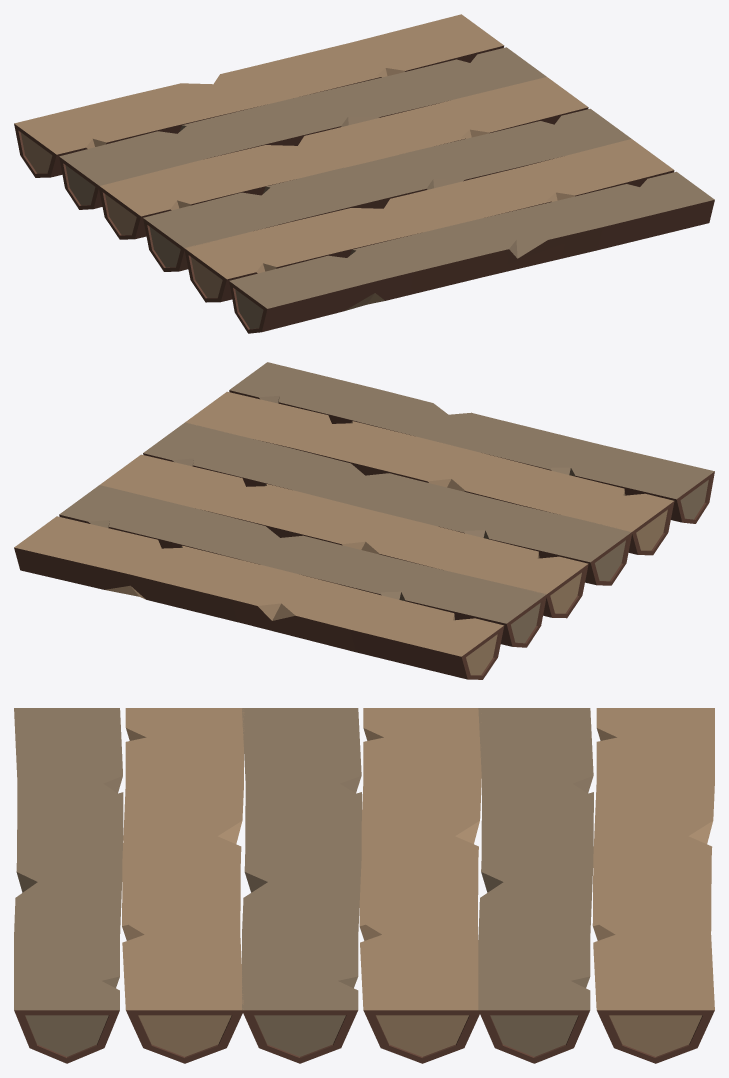
The model's file is Log Floor.fbx.
3 renders of one model, top to bottom at view 1: azimuth 30°, elevation 25°; view 2: azimuth 150°, elevation 25°; view 3: azimuth 270°, elevation 25°, orthographic. The views are drawn at different scales.
Parts seen in each view (by area): view 1: Log Floor Part 01, Log Floor Part 06, Log Floor Part 02, Log Floor Part 04, Log Floor Part 03, Log Floor Part 05; view 2: Log Floor Part 06, Log Floor Part 02, Log Floor Part 03, Log Floor Part 04, Log Floor Part 05, Log Floor Part 01; view 3: Log Floor Part 06, Log Floor Part 02, Log Floor Part 04, Log Floor Part 03, Log Floor Part 05, Log Floor Part 01.
Boxes of the visible parts, left/top/right/bottom form: Log Floor Part 01: left=229, top=171, right=714, bottom=333; Log Floor Part 06: left=14, top=14, right=504, bottom=177; Log Floor Part 02: left=184, top=139, right=674, bottom=302; Log Floor Part 04: left=99, top=77, right=588, bottom=239; Log Floor Part 03: left=143, top=108, right=631, bottom=271; Log Floor Part 05: left=59, top=47, right=546, bottom=209; Log Floor Part 06: left=14, top=516, right=504, bottom=679; Log Floor Part 02: left=185, top=391, right=674, bottom=555; Log Floor Part 03: left=143, top=422, right=632, bottom=585; Log Floor Part 04: left=100, top=454, right=588, bottom=618; Log Floor Part 05: left=59, top=485, right=546, bottom=647; Log Floor Part 01: left=229, top=362, right=714, bottom=523; Log Floor Part 06: left=592, top=708, right=714, bottom=1063; Log Floor Part 02: left=122, top=708, right=244, bottom=1063; Log Floor Part 04: left=359, top=708, right=481, bottom=1063; Log Floor Part 03: left=242, top=708, right=361, bottom=1063; Log Floor Part 05: left=478, top=708, right=593, bottom=1063; Log Floor Part 01: left=14, top=708, right=123, bottom=1063.
Size of the model in its own units: 2.41 by 0.2 by 2.37.
